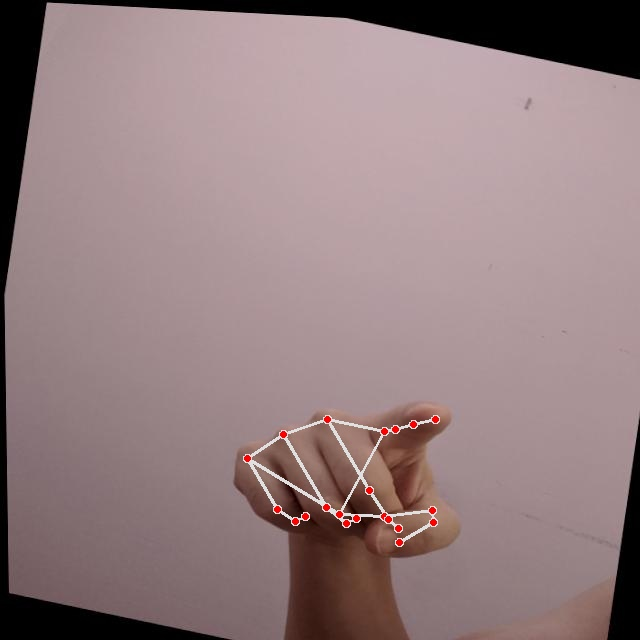Z: (214, 352, 487, 575)
